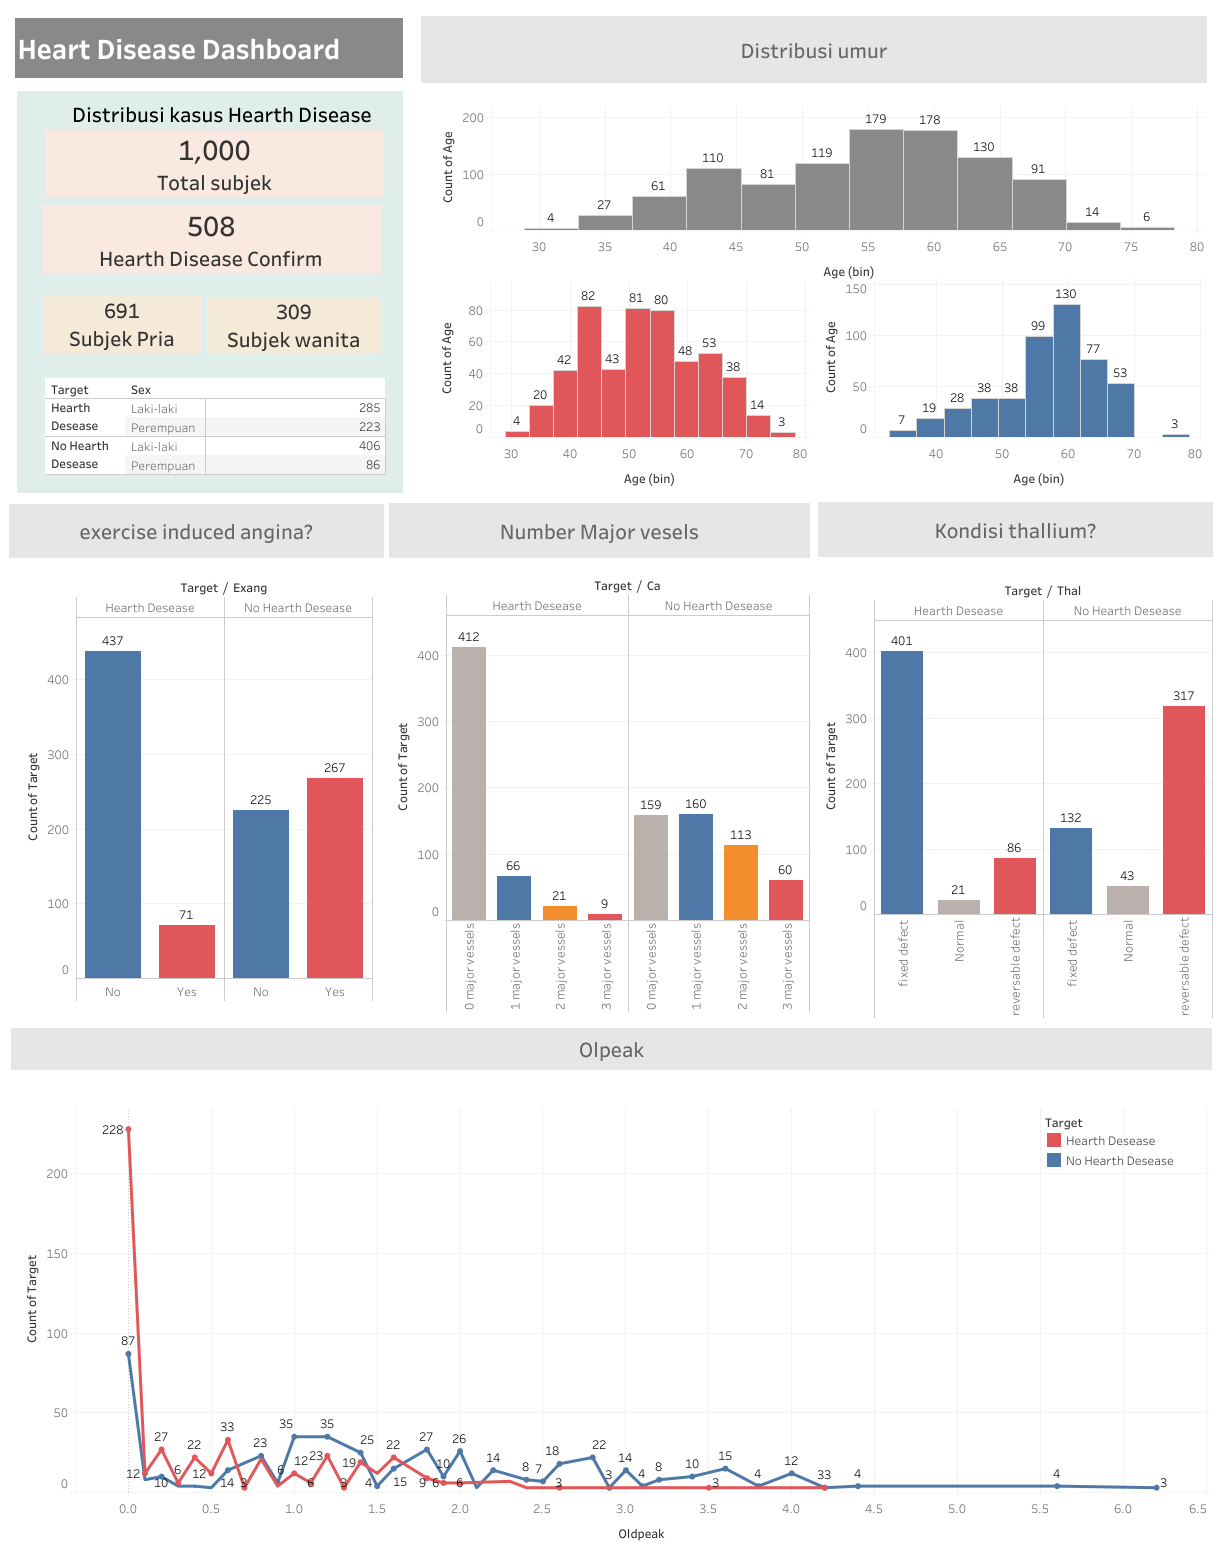

This screenshot's page, from the dashboard's own definition file:
{"tool":"tableau","page":{"name":"Dashboard 1","canvas":[1220,1560],"ordinal":0},"visuals":[{"type":"text","box":[421,16,786,67.3]},{"type":"text","box":[15,18.2,388,59.8]},{"type":"text","box":[40,88.7,364,49.2]},{"type":"blank","box":[17,90.8,386,401.7]},{"type":"worksheet","title":"Distribusi age","mark":"Automatic","rows":["age"],"cols":["Age (bin)"],"box":[431,90.8,776,196.6]},{"type":"worksheet","title":"Total subjek","mark":"Automatic","box":[46,115.4,337,97.2]},{"type":"worksheet","title":"Distribusi heart disease confirm","mark":"Automatic","box":[42,191.3,339,90.8]},{"type":"worksheet","title":"pria","mark":"Automatic","box":[44,253.2,157,123.9]},{"type":"worksheet","title":"wanita","mark":"Automatic","box":[207,254.3,174,123.9]},{"type":"worksheet","title":"Distribusi ahdn","mark":"Automatic","rows":["age"],"cols":["Age (bin)"],"box":[814,263.9,390,229.7]},{"type":"worksheet","title":"Distribusi age hdc","mark":"Automatic","rows":["age"],"cols":["Age (bin)"],"box":[430,266.1,379,227.6]},{"type":"worksheet","title":"Distribusi jenis kelamin","mark":"Automatic","rows":["target","sex"],"box":[45,363.3,341,140]},{"type":"text","box":[818,502.2,395,54.5]},{"type":"text","box":[389,503.3,421,54.5]},{"type":"text","box":[9,504.3,375,53.4]},{"type":"worksheet","title":"Sheet 8","mark":"Automatic","rows":["target"],"cols":["target","ca"],"box":[386,559.9,424,452]},{"type":"worksheet","title":"Sheet 7","mark":"Automatic","rows":["target"],"cols":["target","exang"],"box":[16,562,357,439.2]},{"type":"worksheet","title":"Sheet 9","mark":"Automatic","rows":["target"],"cols":["target","thal"],"box":[814,565.2,399,453]},{"type":"text","box":[11,1028,1201,42]},{"type":"worksheet","title":"Sheet 12","mark":"Automatic","rows":["target"],"cols":["oldpeak"],"box":[15,1093,1194,456]},{"type":"legend","title":"Sheet 12","param":"[federated.0rf2t3l1hjists1fve5un1rmzm5x].[none:target:nk]","box":[1044,1111,140,58]}]}

Visuals, with their boxes in screenshot pixels (x1, y1, x2, y2), scaled from the page's 1220x1560 canvas onto the 1219x1559 screenshot:
text: {"x1": 421, "y1": 16, "x2": 1206, "y2": 83}
text: {"x1": 15, "y1": 18, "x2": 403, "y2": 78}
text: {"x1": 40, "y1": 89, "x2": 404, "y2": 138}
blank: {"x1": 17, "y1": 91, "x2": 403, "y2": 492}
"Distribusi age" worksheet: {"x1": 431, "y1": 91, "x2": 1206, "y2": 287}
"Total subjek" worksheet: {"x1": 46, "y1": 115, "x2": 383, "y2": 212}
"Distribusi heart disease confirm" worksheet: {"x1": 42, "y1": 191, "x2": 381, "y2": 282}
"pria" worksheet: {"x1": 44, "y1": 253, "x2": 201, "y2": 377}
"wanita" worksheet: {"x1": 207, "y1": 254, "x2": 381, "y2": 378}
"Distribusi ahdn" worksheet: {"x1": 813, "y1": 264, "x2": 1203, "y2": 493}
"Distribusi age hdc" worksheet: {"x1": 430, "y1": 266, "x2": 808, "y2": 493}
"Distribusi jenis kelamin" worksheet: {"x1": 45, "y1": 363, "x2": 386, "y2": 503}
text: {"x1": 817, "y1": 502, "x2": 1212, "y2": 556}
text: {"x1": 389, "y1": 503, "x2": 809, "y2": 557}
text: {"x1": 9, "y1": 504, "x2": 384, "y2": 557}
"Sheet 8" worksheet: {"x1": 386, "y1": 560, "x2": 809, "y2": 1011}
"Sheet 7" worksheet: {"x1": 16, "y1": 562, "x2": 373, "y2": 1001}
"Sheet 9" worksheet: {"x1": 813, "y1": 565, "x2": 1212, "y2": 1018}
text: {"x1": 11, "y1": 1027, "x2": 1211, "y2": 1069}
"Sheet 12" worksheet: {"x1": 15, "y1": 1092, "x2": 1208, "y2": 1548}
"Sheet 12" legend: {"x1": 1043, "y1": 1110, "x2": 1183, "y2": 1168}
